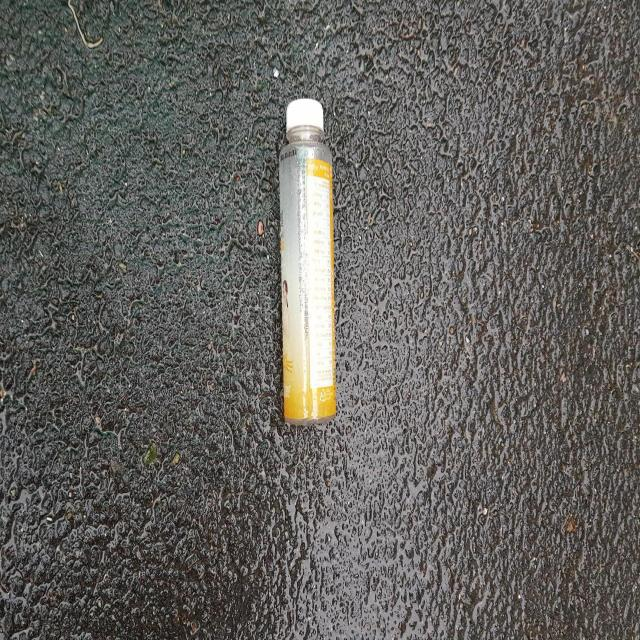plastic: (279, 98, 336, 423)
